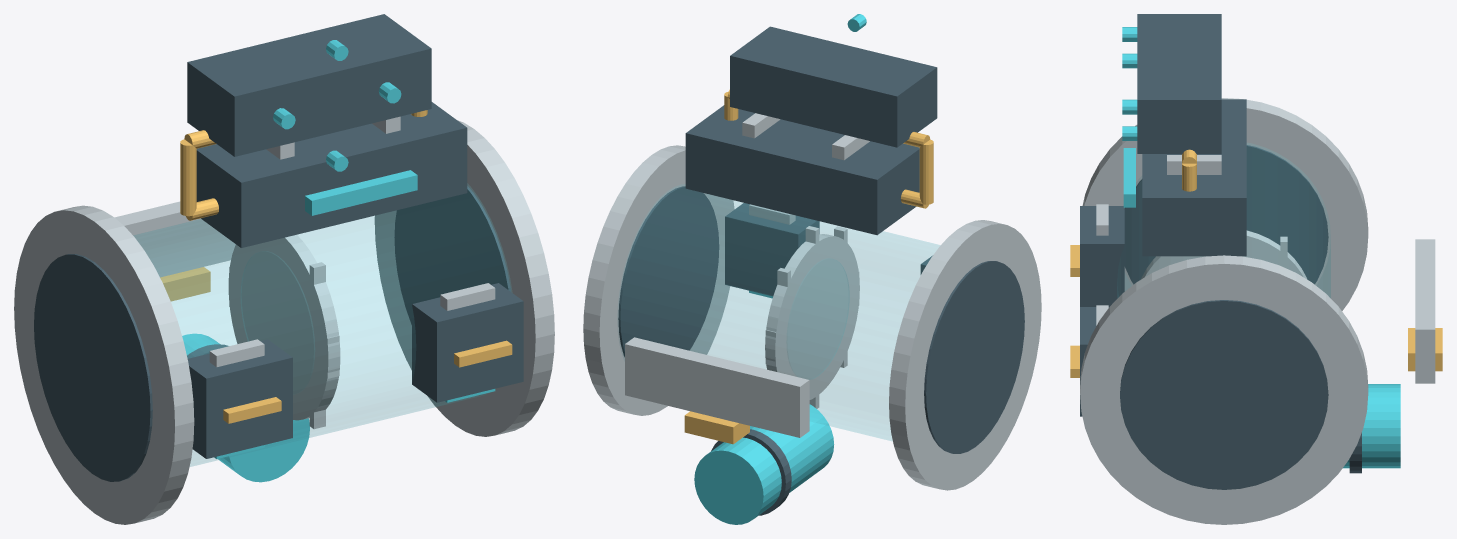
The model's file is VAPOR-TRACE-spool.glb.
3 views of the same model, side by side, from view 1: azimuth 30°, elevation 25°; view 2: azimuth 150°, elevation 25°; view 3: azimuth 270°, elevation 25° (orthographic). The views are drawn at different scales.
Parts seen in each view (by area): view 1: dark, frame, wall, water, gas; view 2: dark, frame, wall, water, gas; view 3: dark, frame, wall, water, gas.
Part boxes in pixels (bbox=[...]): dark: bbox=[34, 14, 523, 481]; frame: bbox=[14, 116, 554, 524]; wall: bbox=[133, 185, 511, 466]; water: bbox=[182, 40, 495, 482]; gas: bbox=[160, 110, 512, 423]; dark: bbox=[618, 26, 1024, 515]; frame: bbox=[583, 113, 1041, 490]; wall: bbox=[618, 184, 940, 441]; water: bbox=[694, 14, 866, 524]; gas: bbox=[684, 89, 933, 444]; dark: bbox=[1080, 14, 1361, 489]; frame: bbox=[1080, 98, 1435, 524]; wall: bbox=[1117, 143, 1330, 297]; water: bbox=[1122, 27, 1400, 468]; gas: bbox=[1070, 149, 1442, 377].
Size of the model in its own units: 0.16 by 0.196 by 0.15.
